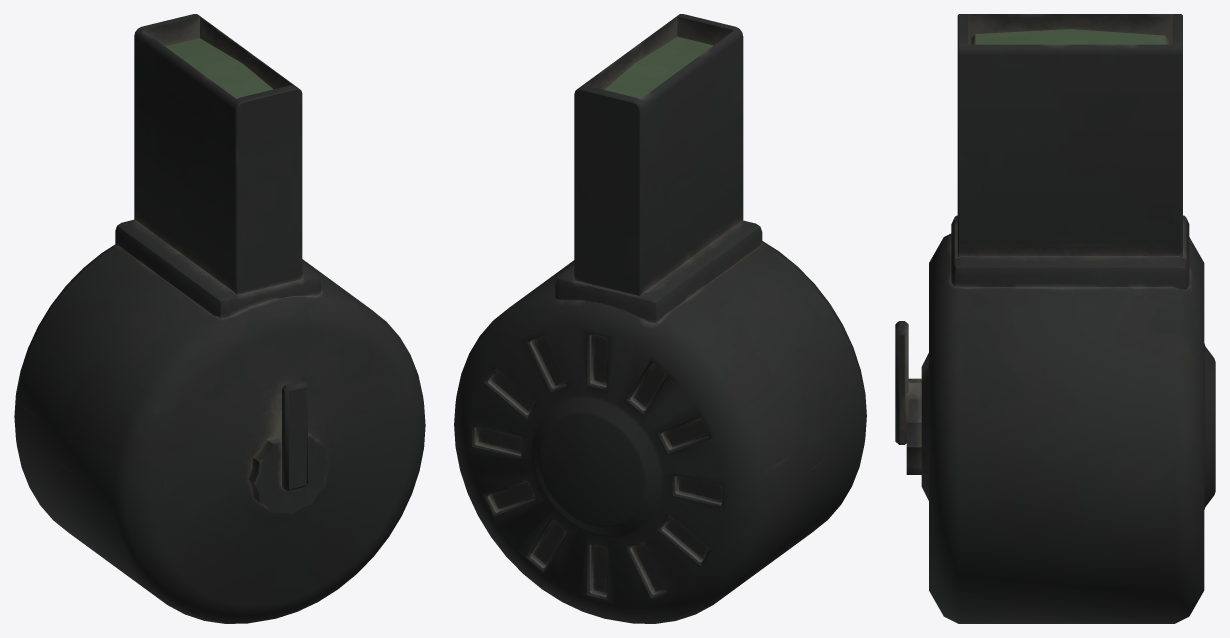
The model's file is tambor_556_60.glb.
The picture shows the model from 3 angles, left to right: view 1: azimuth 30°, elevation 25°; view 2: azimuth 150°, elevation 25°; view 3: azimuth 270°, elevation 25°; orthographic projection. The views are drawn at different scales.
Visible parts, largest first — view 1: tambor_556_60_carregador; view 2: tambor_556_60_carregador; view 3: tambor_556_60_carregador.
Boxes of the visible parts, x1,y1,x2,y2 form: tambor_556_60_carregador: (14, 14, 425, 623); tambor_556_60_carregador: (454, 14, 866, 623); tambor_556_60_carregador: (895, 14, 1215, 623).
Bounding box in the file's own units: 0.106 × 0.171 × 0.086.
Materials: 1 (1 with a texture image).
